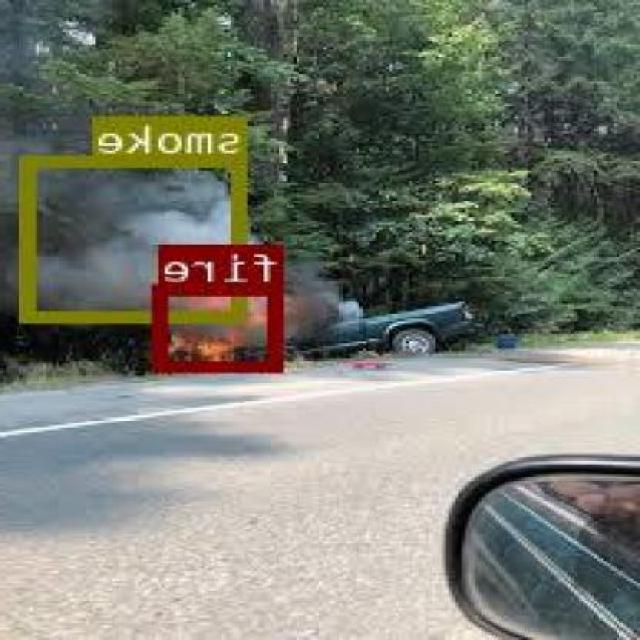Fire: (158, 283, 287, 369)
Smoke: (23, 153, 248, 321)
